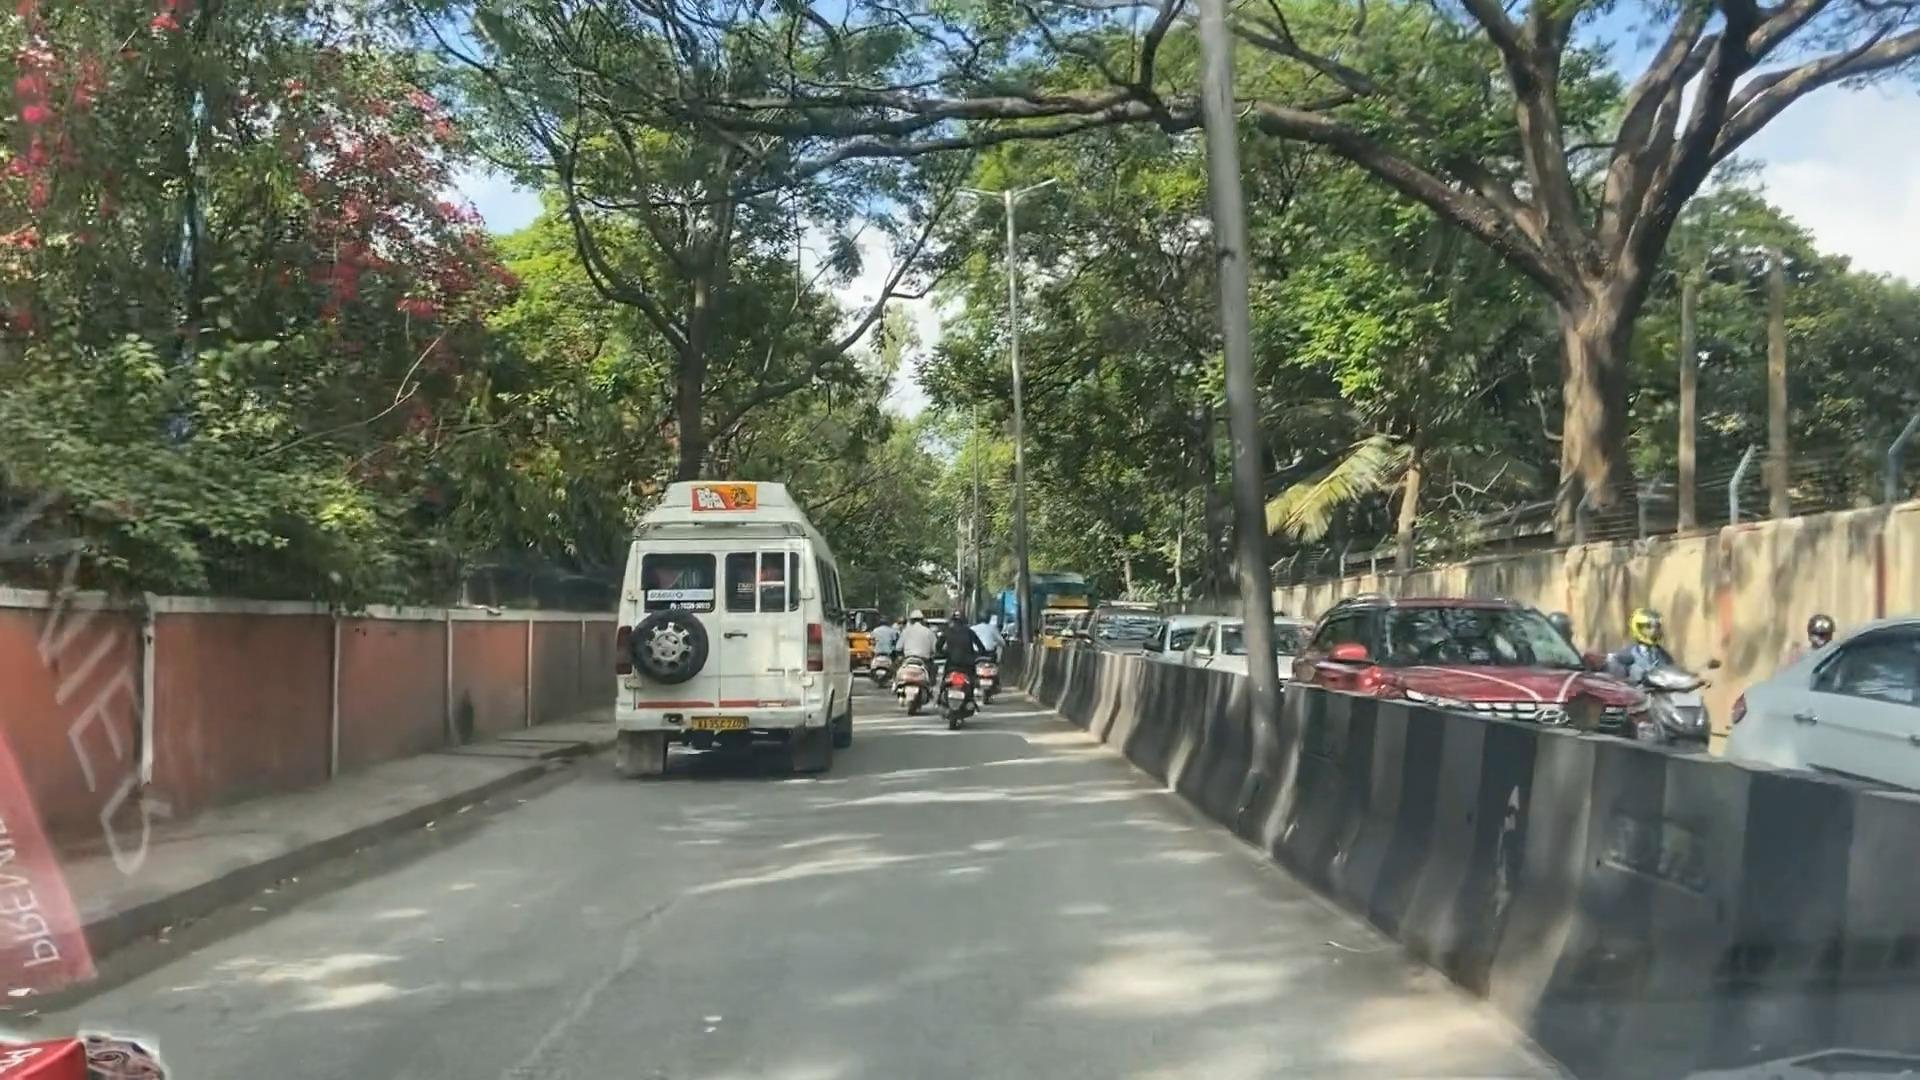HMV: (559, 418, 872, 828)
